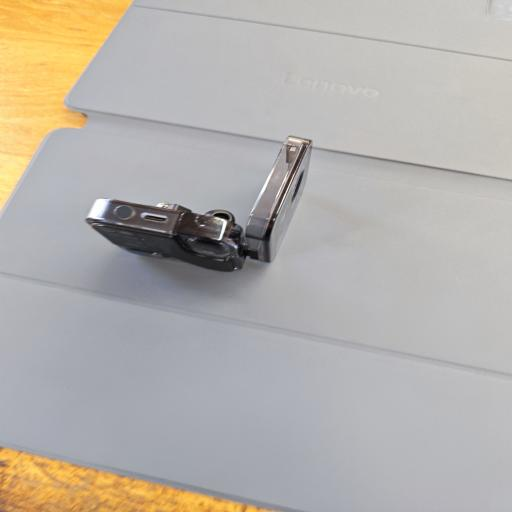Headphones: (76, 132, 316, 281)
